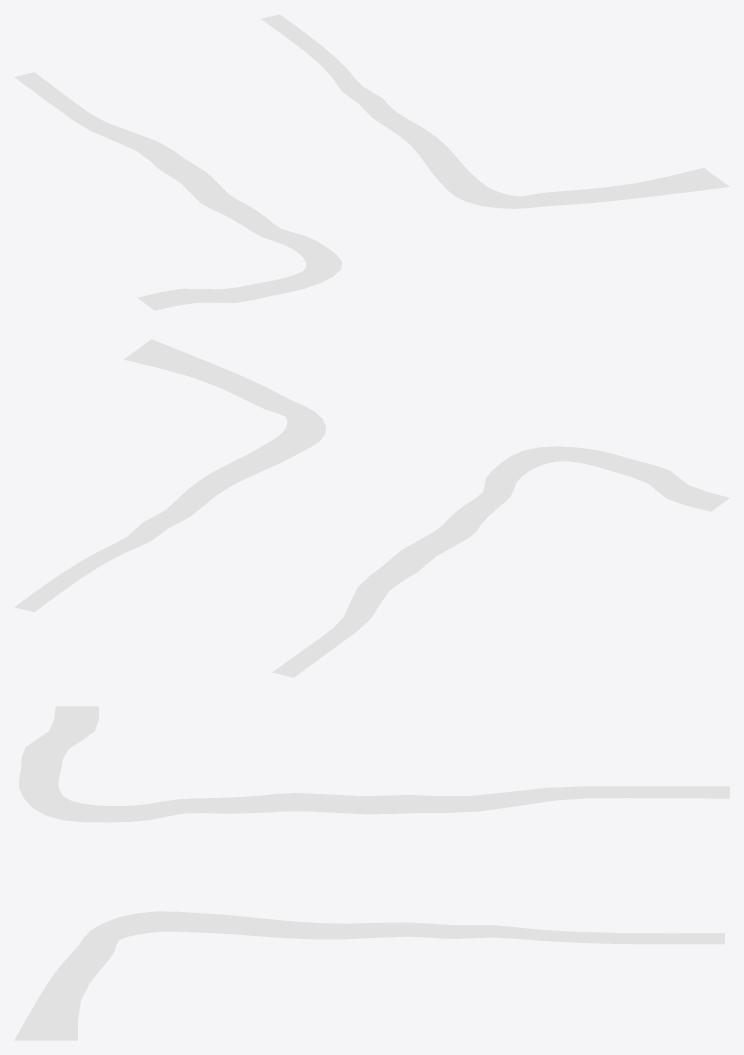
Rendered from SM_Foam_Side.FBX.
3 views of the same model, one above another, from view 1: azimuth 30°, elevation 25°; view 2: azimuth 150°, elevation 25°; view 3: azimuth 270°, elevation 25° (orthographic). The views are drawn at different scales.
Visible parts, largest first — view 1: Plane004; view 2: Plane004; view 3: Plane004.
Boxes of the visible parts, x1=… form: Plane004: x1=14, y1=14, x2=729, y2=310; Plane004: x1=14, y1=339, x2=729, y2=677; Plane004: x1=14, y1=706, x2=729, y2=1040.
Size of the model in its own units: 4134 by 2.29e-13 by 3738.
Materials: 1 (1 with a texture image).
